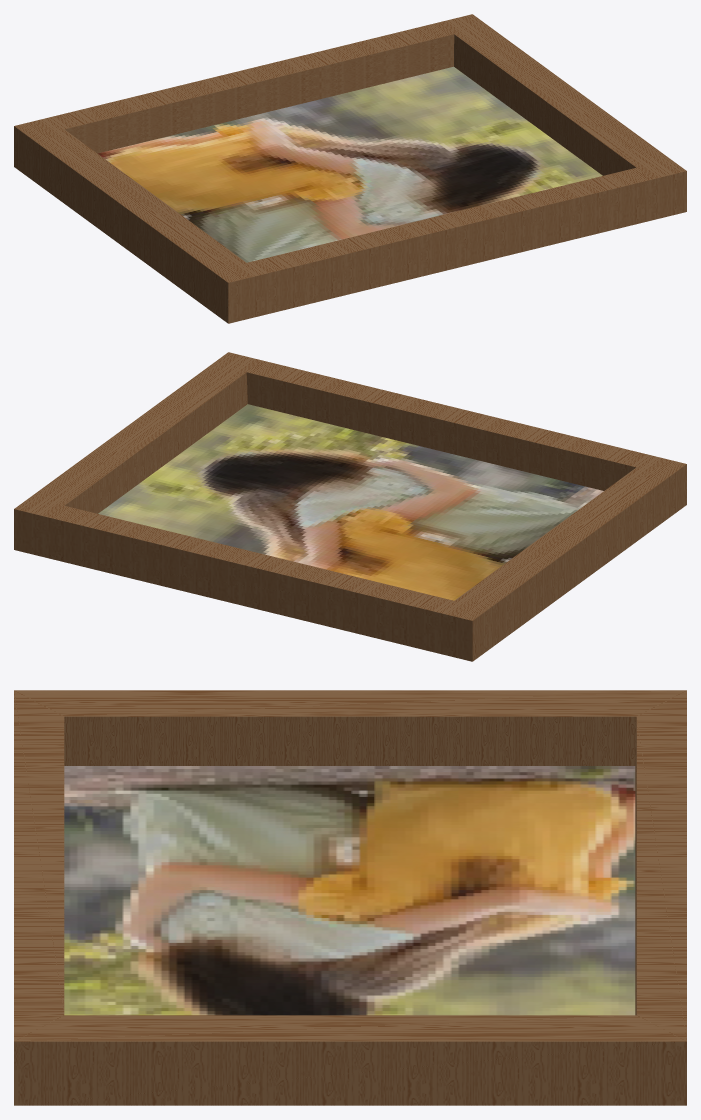
File: Frame.fbx
3 views of the same model, one above another, from view 1: azimuth 30°, elevation 25°; view 2: azimuth 150°, elevation 25°; view 3: azimuth 270°, elevation 25° (orthographic). The views are drawn at different scales.
Visible parts, largest first — view 1: pCube1; view 2: pCube1; view 3: pCube1.
Boxes of the visible parts, x1,y1,x2,y2 form: pCube1: (14,14,686,323); pCube1: (14,352,686,661); pCube1: (14,690,686,1105).
Bounding box in the file's own units: 4.78 × 0.4069 × 3.87.
2 materials, 2 textured.
